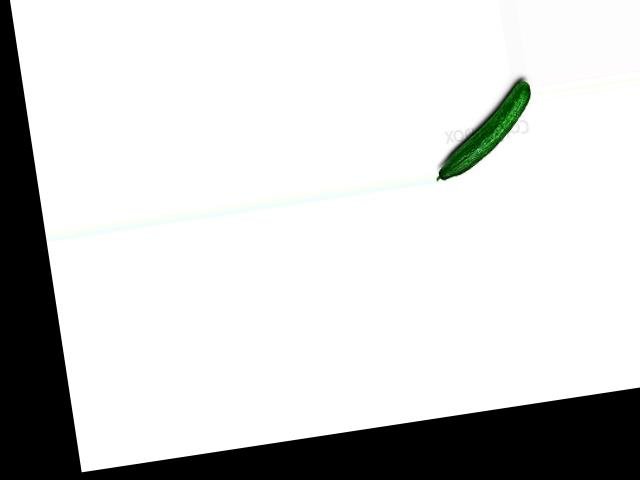cucumber: (422, 79, 540, 181)
